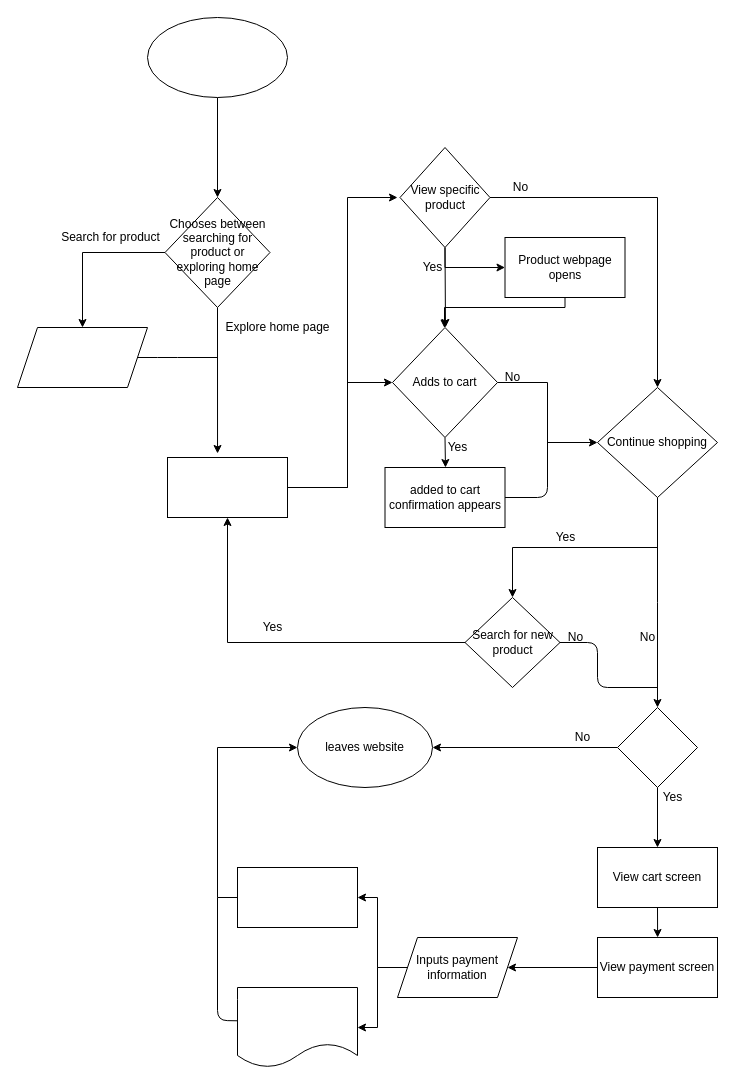
Some shapes in this 735 by 1085 pixel diagram are drawn without their labels. Each missing label, with the box of its shape:
checkout: (616, 706, 698, 788)
Confirmation screen: (236, 866, 358, 928)
Enters website: (146, 16, 288, 98)
Looks over products: (166, 456, 288, 518)
Provides input to search: (16, 326, 148, 388)
Receives confirmation email: (236, 986, 358, 1068)
